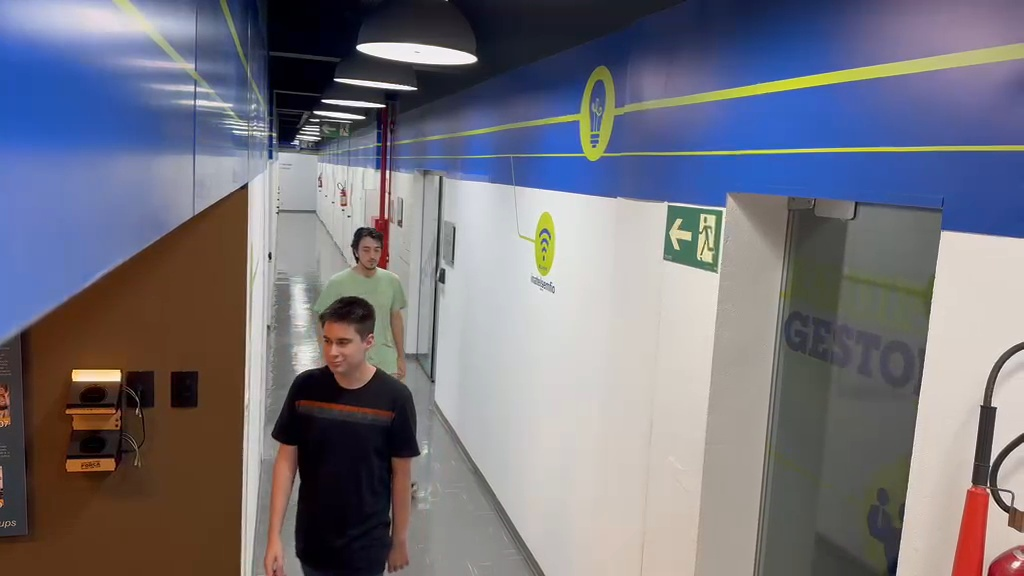person: (264, 296, 422, 574), (314, 226, 409, 378)
